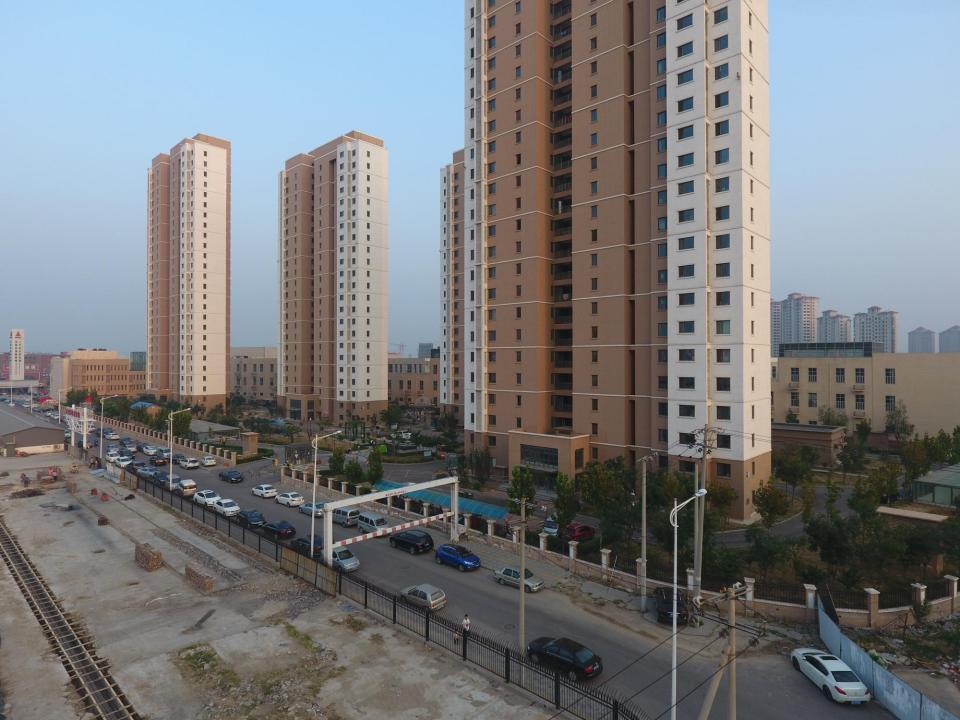car: (790, 648, 870, 704), (526, 637, 603, 682), (494, 565, 544, 593), (320, 544, 360, 572), (291, 535, 326, 556), (261, 520, 296, 539), (236, 509, 266, 530), (298, 501, 328, 518), (194, 490, 222, 508), (213, 499, 240, 516), (275, 492, 304, 507), (394, 483, 422, 498), (251, 484, 277, 498), (136, 466, 162, 480), (218, 469, 243, 483), (168, 454, 186, 465), (117, 449, 135, 460), (148, 456, 166, 466), (200, 456, 216, 467), (116, 457, 132, 468), (105, 452, 121, 462), (118, 437, 133, 447), (77, 439, 92, 449), (135, 443, 150, 452), (401, 433, 420, 440), (107, 444, 120, 454), (142, 446, 158, 454), (104, 433, 120, 441), (121, 445, 137, 452), (72, 421, 86, 429), (271, 418, 286, 424), (60, 430, 71, 438), (64, 418, 75, 425), (37, 408, 54, 412), (32, 406, 40, 412), (58, 416, 66, 421), (52, 414, 60, 419), (5, 398, 15, 402), (8, 402, 16, 406), (50, 413, 56, 418), (23, 403, 29, 408)
truck: (94, 427, 114, 438)
van: (398, 583, 446, 612), (435, 543, 481, 573), (654, 587, 688, 625), (389, 529, 434, 555), (542, 509, 571, 541), (325, 503, 360, 528), (358, 511, 389, 538), (563, 522, 594, 544), (871, 486, 900, 504), (178, 479, 197, 497), (153, 469, 171, 487), (126, 461, 146, 475), (165, 474, 181, 491), (179, 457, 199, 470), (155, 446, 172, 459), (390, 430, 408, 439), (82, 423, 96, 432), (129, 439, 141, 449), (44, 411, 52, 417)
